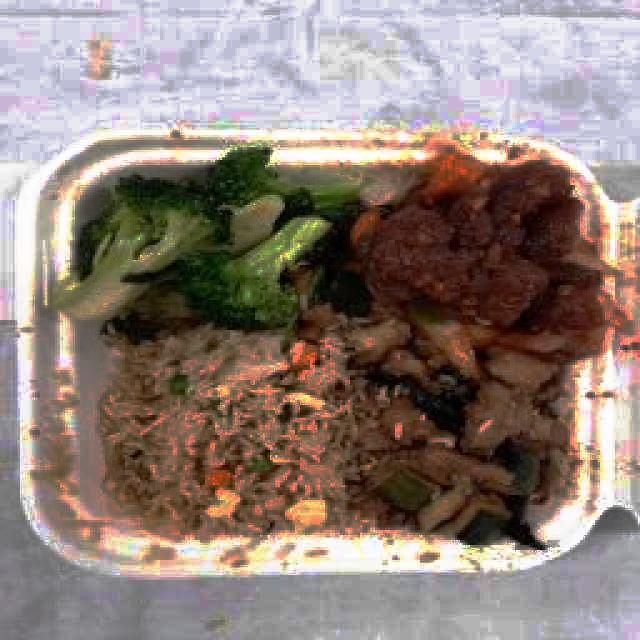Beijing Beef: (350, 150, 583, 331)
Fried Rice: (119, 346, 343, 534)
Kung Pao Chicken: (350, 325, 625, 548)
